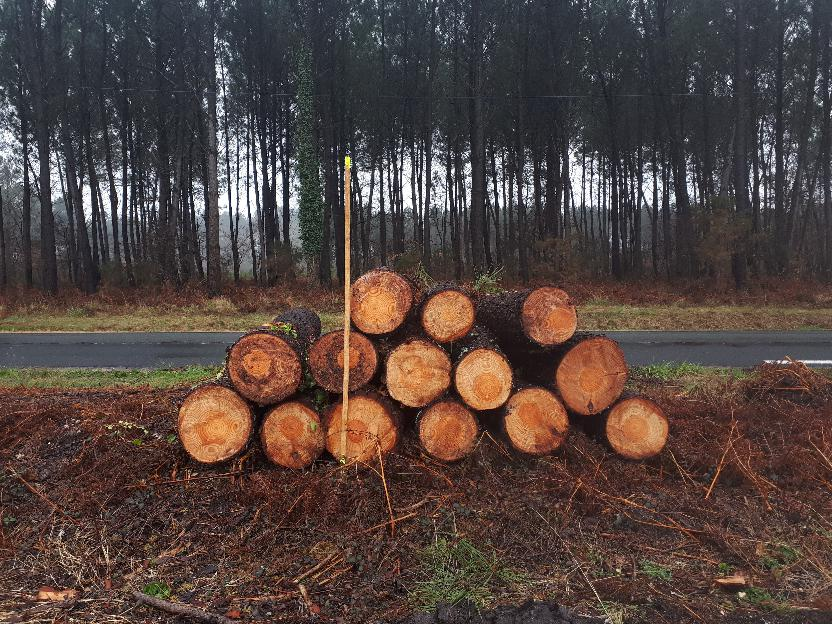etalon: (338, 156, 352, 470)
object: (552, 334, 628, 412), (321, 398, 396, 472), (223, 334, 303, 402), (177, 391, 254, 461), (338, 270, 414, 336), (382, 342, 457, 408), (309, 328, 379, 396), (253, 404, 325, 470), (502, 386, 570, 454), (408, 399, 483, 460), (604, 395, 668, 463), (451, 344, 514, 412), (518, 286, 580, 348), (420, 288, 476, 345)
pile: (178, 270, 672, 470)
